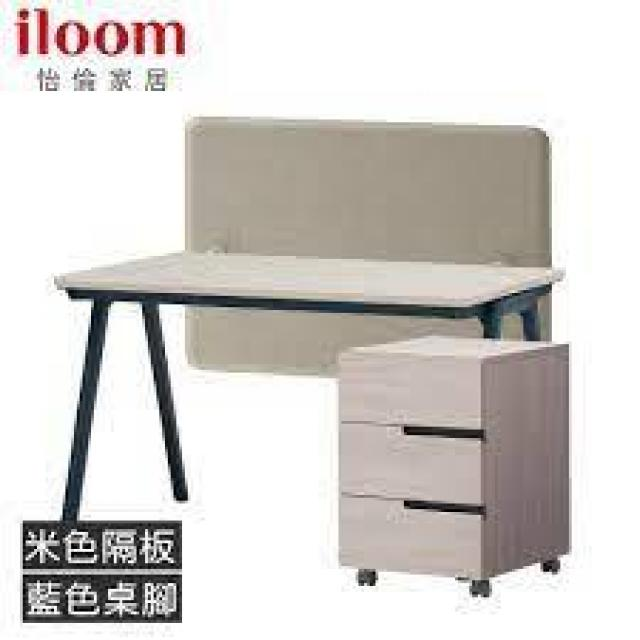table: (46, 121, 594, 547)
